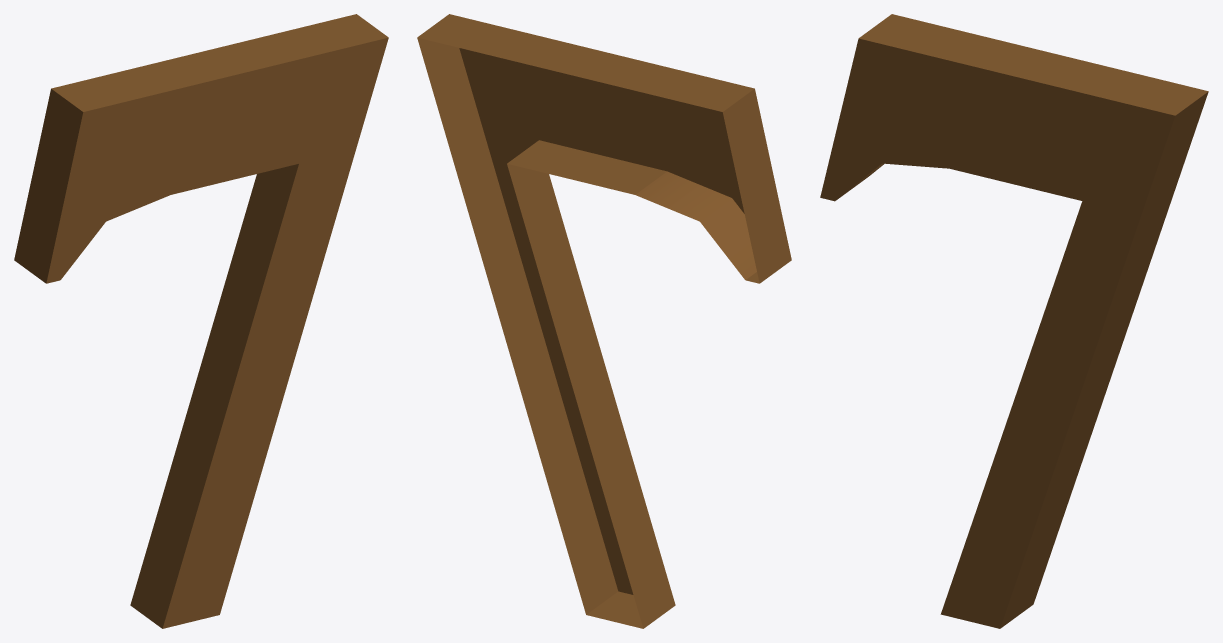
3 views of the same model, side by side, from view 1: azimuth 30°, elevation 25°; view 2: azimuth 150°, elevation 25°; view 3: azimuth 330°, elevation 25° (orthographic). The views are drawn at different scales.
Parts seen in each view (by area): view 1: 7; view 2: 7; view 3: 7.
Boxes of the visible parts, <box> form: 7: <box>14,14,388,628</box>; 7: <box>417,14,791,628</box>; 7: <box>820,14,1208,628</box>.
Size of the model in its own units: 6.75 by 10.09 by 1.1.
